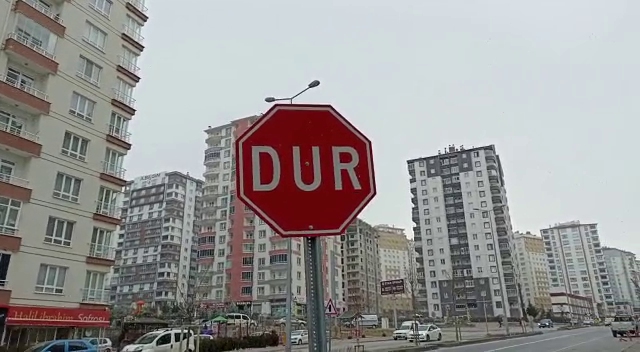stop: (232, 102, 381, 241)
